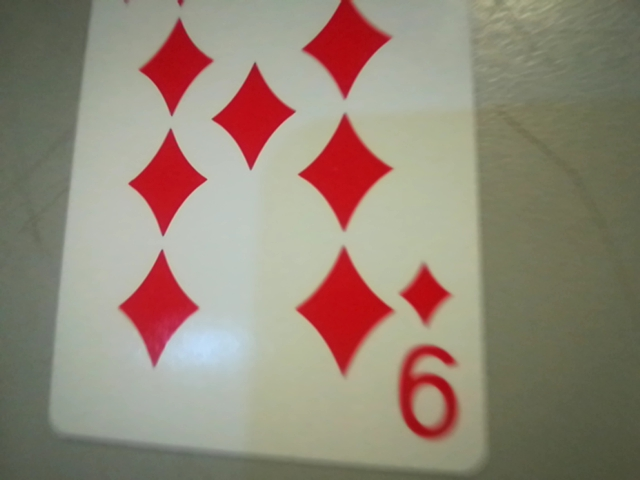fk 9: (385, 249, 479, 457)
